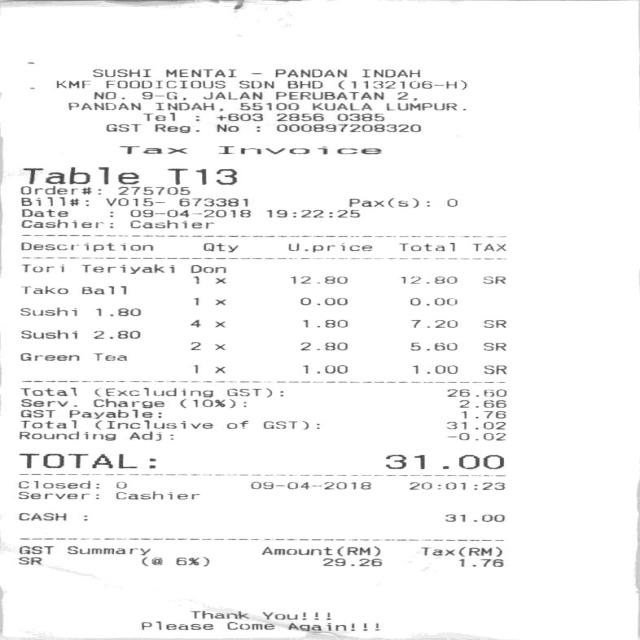text: (21, 166, 138, 185), (382, 453, 504, 470), (18, 452, 138, 468), (18, 242, 154, 252), (217, 146, 380, 154), (337, 80, 465, 90), (166, 168, 236, 185), (94, 387, 212, 397), (94, 420, 212, 430), (260, 546, 378, 556), (276, 124, 420, 132), (249, 481, 370, 490), (129, 209, 249, 218), (274, 91, 383, 100), (18, 431, 114, 441), (105, 80, 224, 88), (67, 409, 160, 419), (80, 264, 172, 274), (347, 197, 428, 208), (420, 546, 501, 557), (284, 242, 371, 252), (115, 490, 198, 500), (66, 546, 149, 556), (266, 209, 358, 218), (20, 219, 111, 228), (407, 482, 503, 490), (287, 623, 381, 631), (17, 480, 98, 489), (274, 68, 346, 78), (20, 185, 100, 194), (164, 68, 235, 78), (92, 398, 163, 408), (18, 196, 81, 207), (128, 220, 212, 228), (179, 398, 245, 408), (139, 621, 212, 630), (17, 491, 98, 499), (384, 102, 464, 110), (117, 186, 188, 195), (396, 241, 454, 252), (153, 102, 222, 111), (90, 68, 150, 78), (361, 68, 418, 78), (68, 102, 139, 110), (20, 329, 76, 339), (262, 420, 318, 430), (446, 388, 508, 397), (177, 198, 246, 206), (118, 146, 186, 154), (261, 612, 329, 620), (188, 610, 248, 619), (444, 513, 503, 522), (18, 307, 76, 316), (446, 432, 504, 441), (18, 387, 75, 396), (226, 388, 282, 397), (19, 419, 75, 428), (201, 92, 261, 100), (311, 102, 371, 110), (238, 102, 297, 110), (19, 353, 78, 361), (321, 558, 380, 566), (105, 198, 163, 206), (288, 276, 346, 284), (21, 208, 67, 218), (410, 296, 456, 306), (399, 276, 456, 284), (153, 123, 198, 133), (301, 364, 346, 374), (20, 399, 76, 407), (128, 431, 172, 441), (18, 285, 66, 294), (225, 621, 273, 630), (200, 242, 239, 253), (299, 342, 346, 351), (458, 399, 505, 408), (410, 319, 456, 328), (92, 330, 138, 339), (410, 342, 456, 351), (410, 365, 456, 374), (445, 422, 504, 429), (140, 91, 185, 100), (301, 319, 346, 328), (274, 113, 322, 121), (17, 512, 65, 520), (470, 242, 508, 252), (299, 297, 346, 305), (174, 556, 208, 567), (215, 113, 261, 121), (336, 113, 382, 121), (94, 308, 139, 316), (80, 286, 124, 294), (458, 559, 502, 567), (21, 264, 63, 272), (188, 342, 224, 351), (18, 409, 54, 418), (286, 80, 321, 89), (193, 364, 224, 374), (460, 411, 504, 418), (190, 264, 224, 273), (237, 80, 273, 88), (141, 112, 173, 121), (188, 319, 224, 327), (105, 124, 140, 132), (193, 275, 224, 284), (56, 80, 90, 88), (18, 546, 52, 554), (92, 353, 125, 361), (92, 91, 124, 99), (193, 297, 224, 305), (140, 556, 161, 566), (481, 275, 504, 284), (482, 342, 505, 351), (226, 420, 247, 429), (17, 556, 40, 564), (484, 319, 504, 328), (484, 365, 504, 374), (215, 124, 237, 132), (396, 92, 415, 101), (446, 198, 456, 207), (114, 481, 125, 489), (108, 211, 112, 217), (256, 126, 259, 132)
